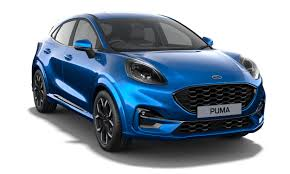Ford: (30, 12, 267, 151)
